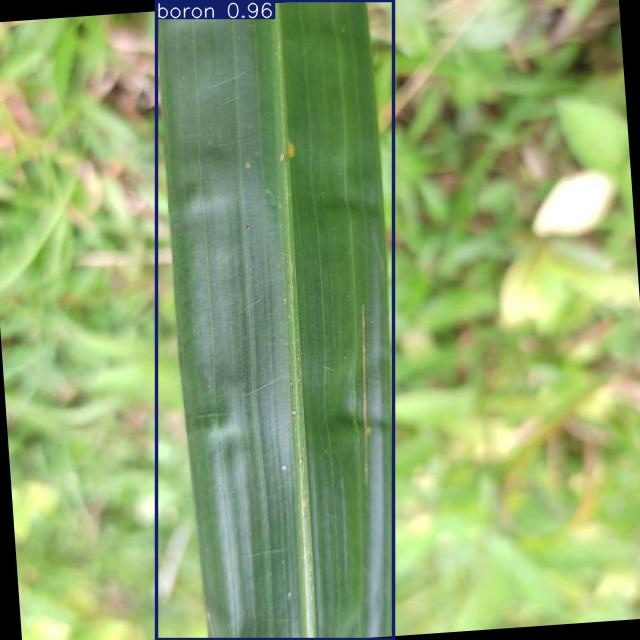nitrogen: (157, 1, 393, 640)
